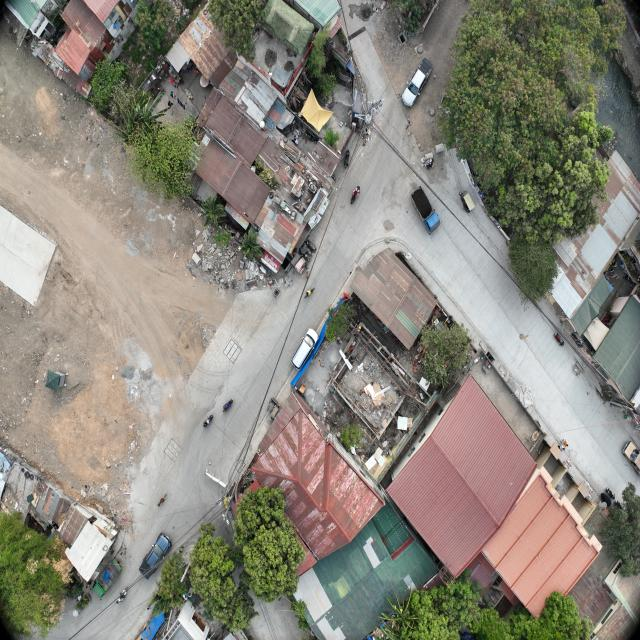Tree: (444, 26, 622, 242), (232, 486, 307, 599), (189, 521, 259, 632), (132, 117, 202, 204), (409, 578, 479, 640), (509, 590, 593, 640), (508, 230, 559, 309), (206, 0, 264, 63), (420, 319, 471, 389), (112, 91, 172, 150), (604, 480, 640, 578), (379, 583, 422, 640), (130, 0, 176, 51), (321, 300, 355, 344), (157, 552, 188, 599), (472, 601, 507, 640), (202, 197, 230, 232), (241, 230, 264, 264)
